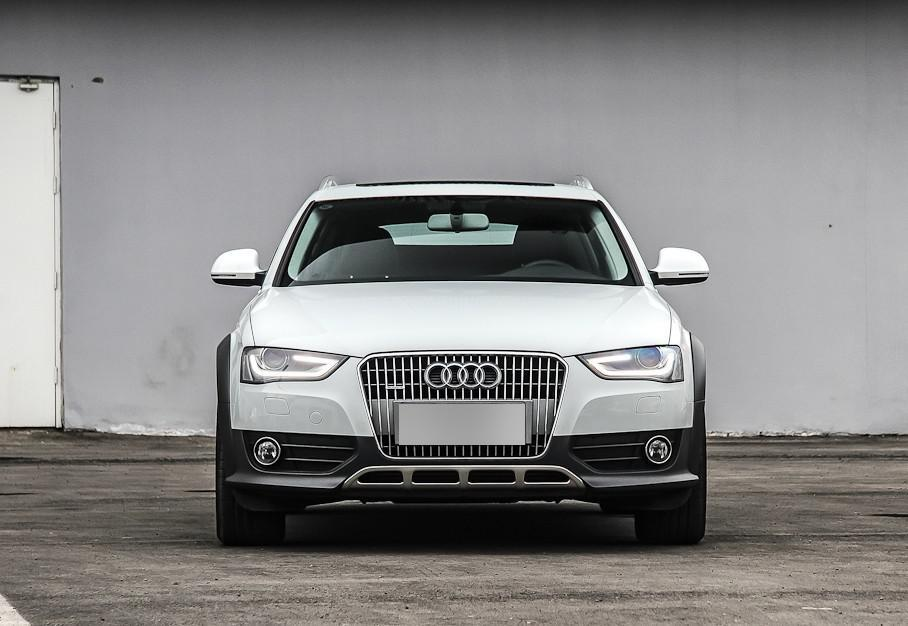Wagon: (208, 172, 712, 543)
